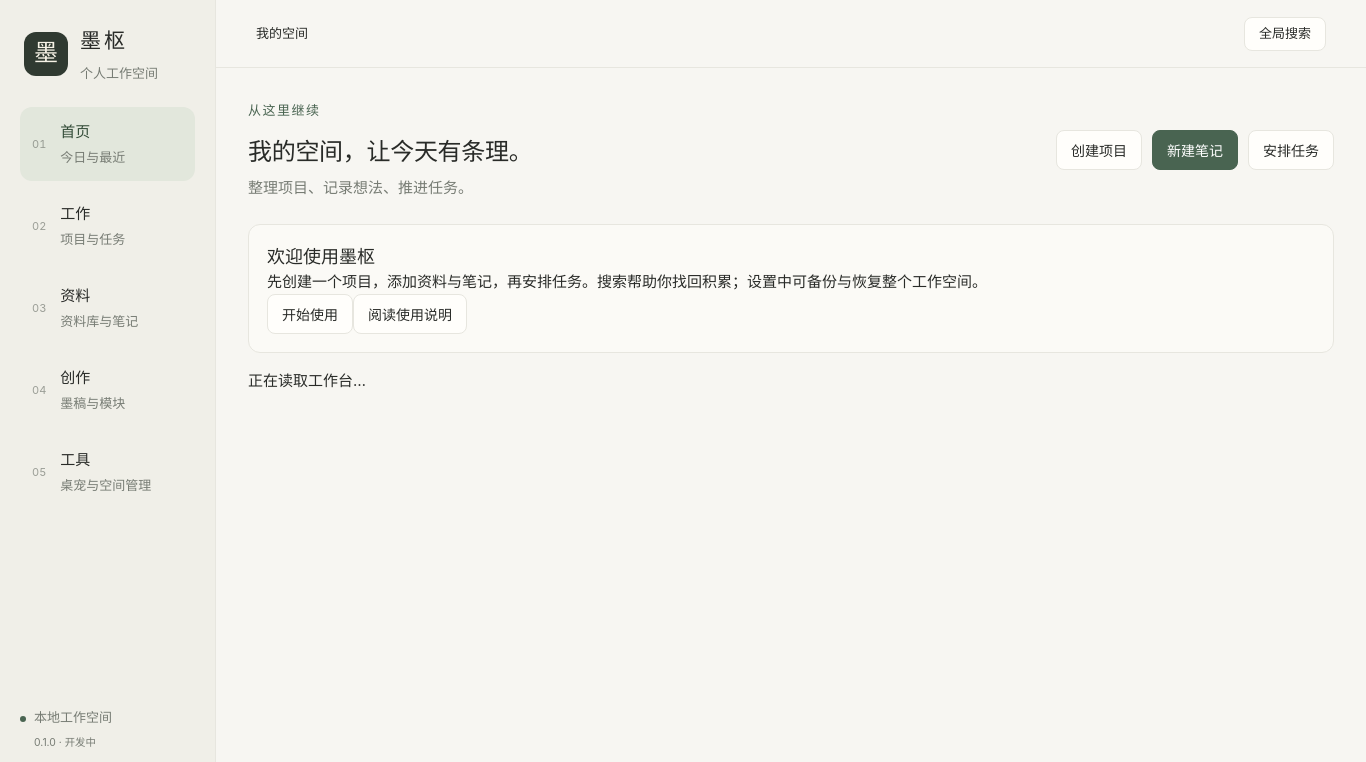
it: 从小说阅读切到全局搜索后打开普通资料，不会被上次小说阅读位置遮住
The image size is (1366, 762).
Expected: the heading "我的空间，让今天有条理。" is shown, x1=248 y1=135 x2=532 y2=168
Click the button "03 资料 资料库与笔记": (108, 308) x1=20 y1=271 x2=195 y2=345
(page scrolled)
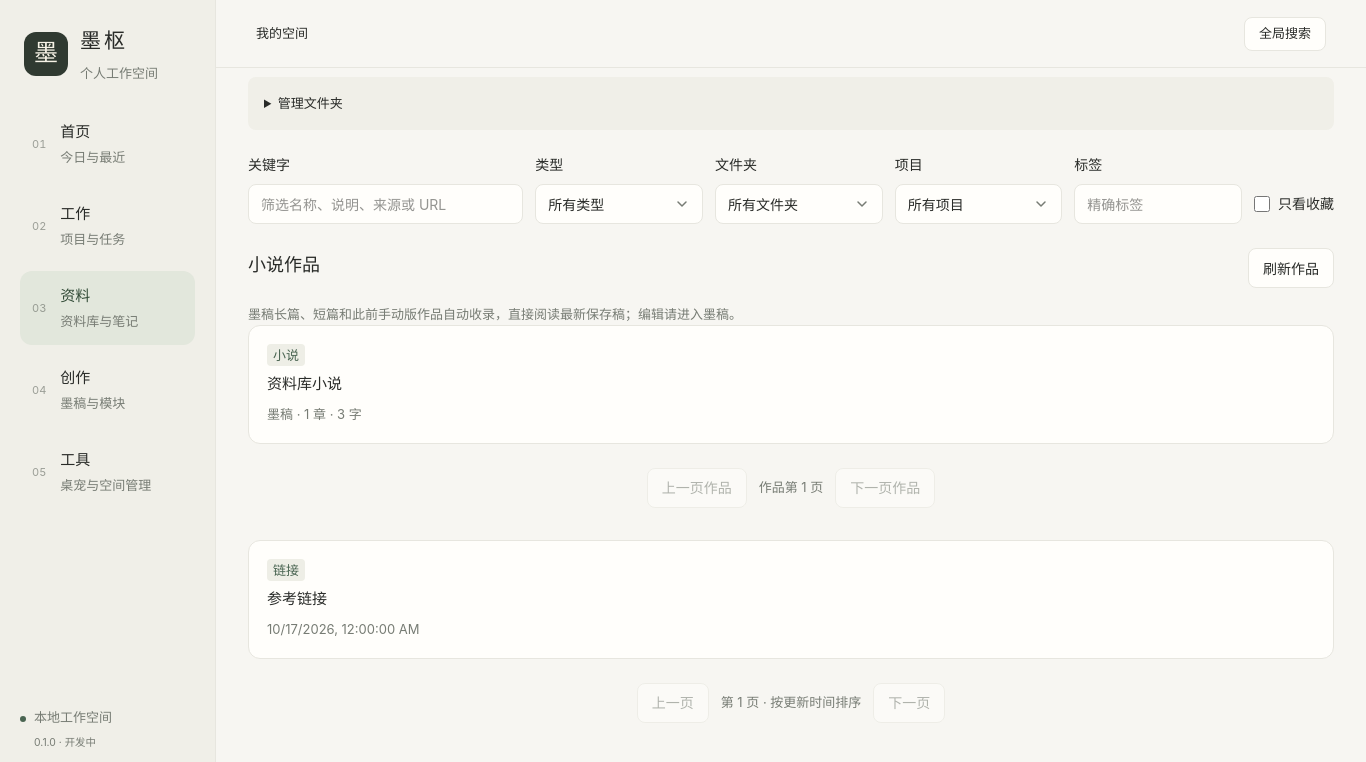
Click the button "小说 资料库小说 墨稿 · 1 章 · 3 字": (286, 355) x1=249 y1=326 x2=1317 y2=443
(page scrolled)
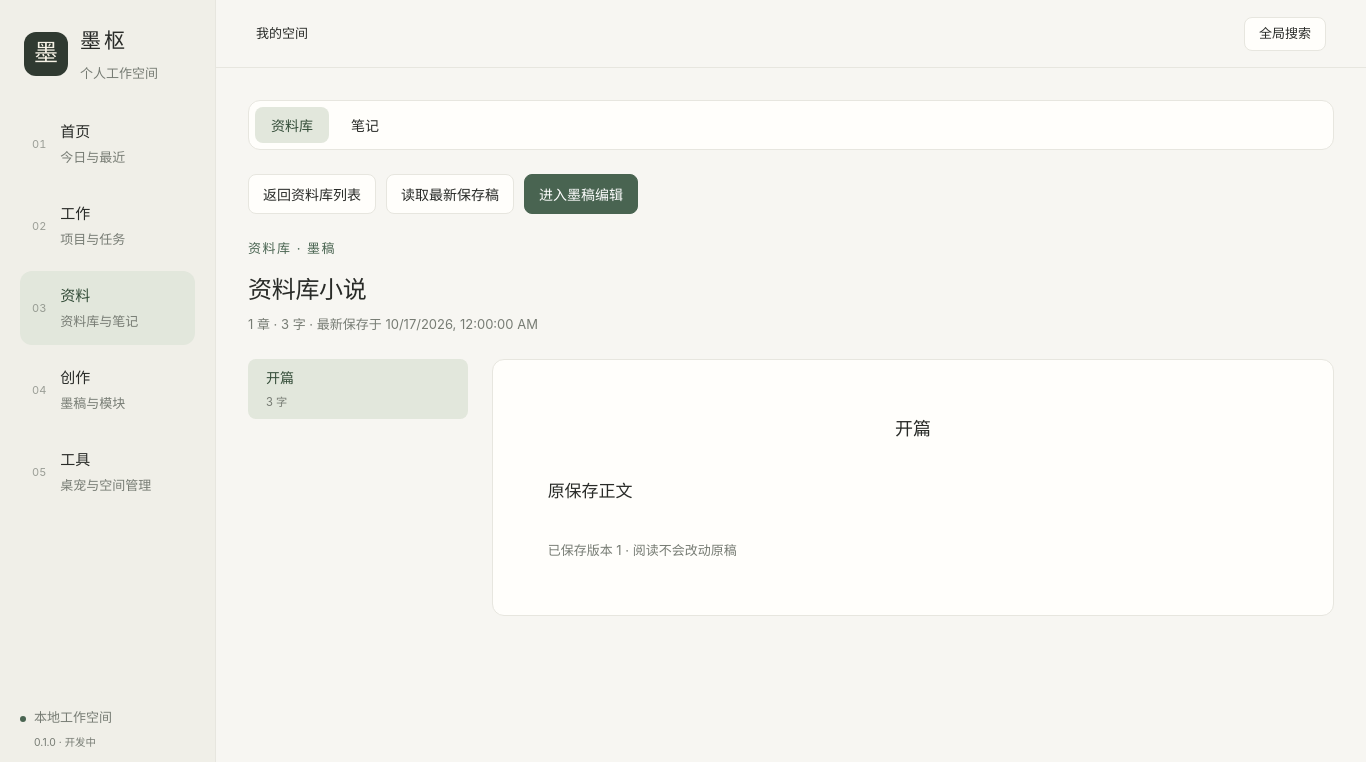
Now the heading "开篇" is shown, box x1=895 y1=418 x2=931 y2=439
Click the button "全局搜索": (1285, 34) x1=1244 y1=16 x2=1326 y2=50
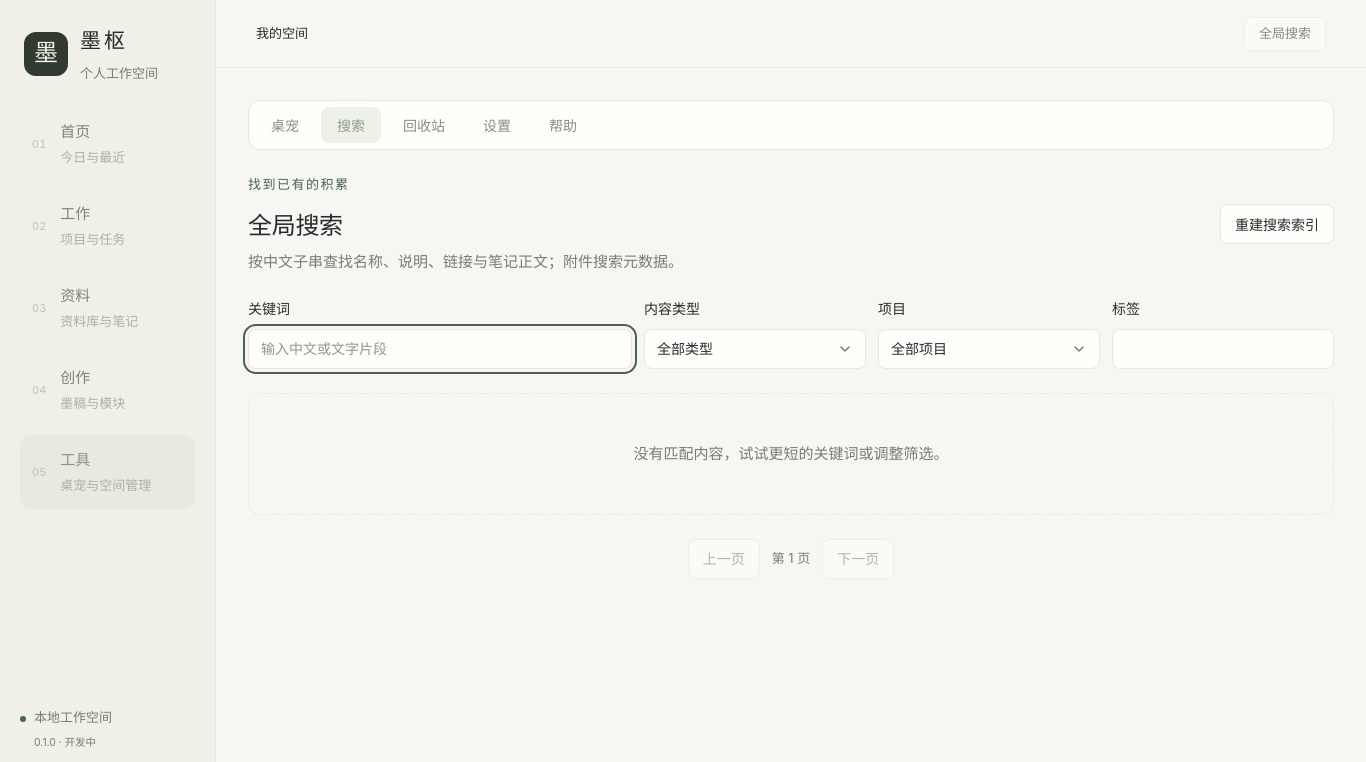
In the field labelled "关键词": (440, 349) x1=248 y1=329 x2=632 y2=369, type "参考"
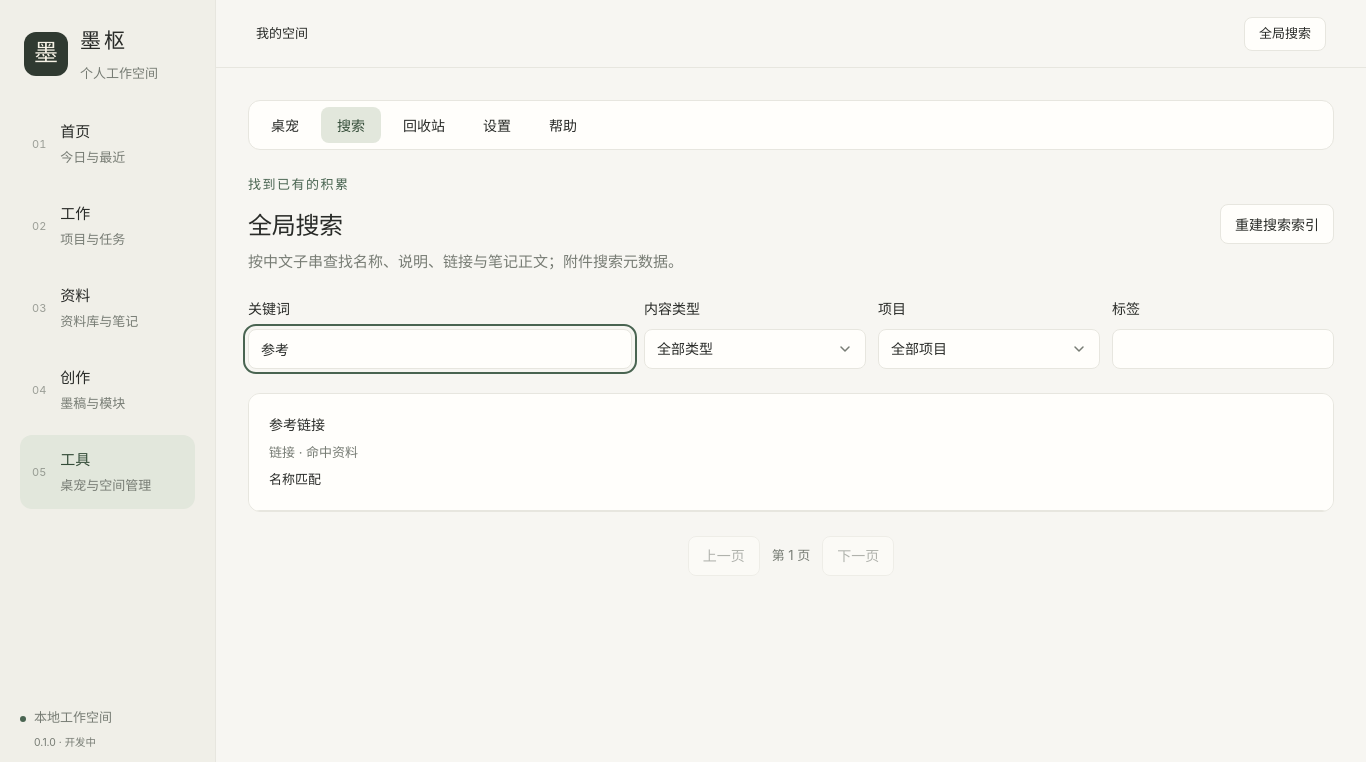
Click the button "参考链接": (297, 424) x1=249 y1=394 x2=1333 y2=511
(page scrolled)
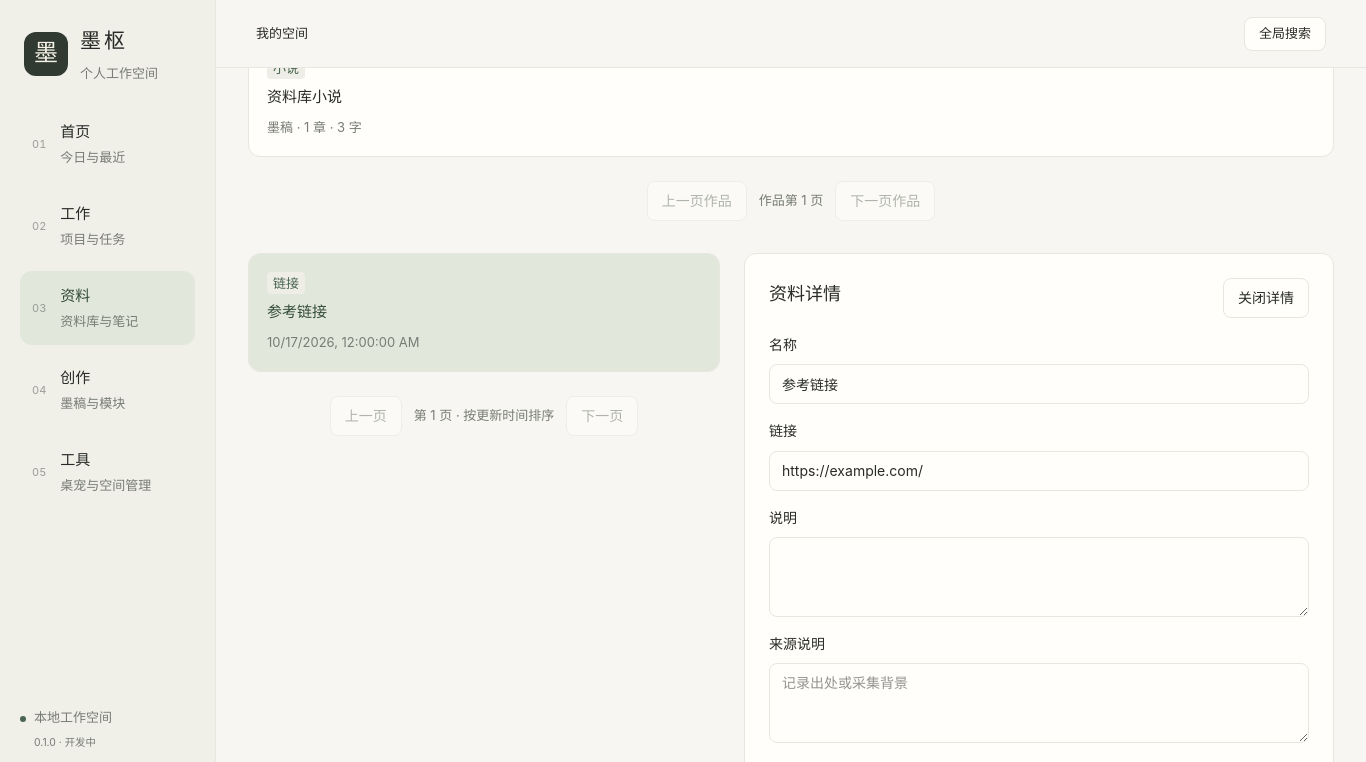
Expected: the button "开篇" is not shown
Now the heading "资料详情" is shown, box x1=769 y1=280 x2=841 y2=307
Now the field labelled "名称" holds "参考链接", box x1=769 y1=364 x2=1309 y2=404
